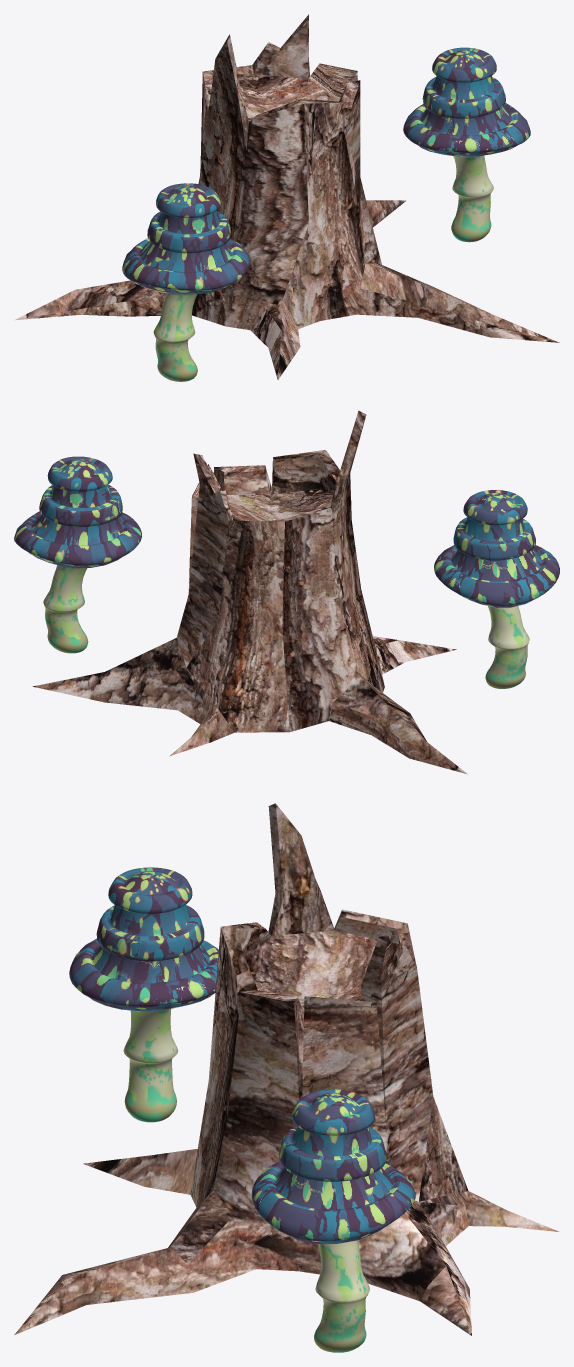
Rendered from FBX_StumpwMushrooms.fbx.
The picture shows the model from 3 angles, top to bottom: view 1: azimuth 30°, elevation 25°; view 2: azimuth 150°, elevation 25°; view 3: azimuth 270°, elevation 25°; orthographic projection. The views are drawn at different scales.
Visible parts, largest first — view 1: StumpwMushrooms; view 2: StumpwMushrooms; view 3: StumpwMushrooms.
Part boxes in pixels (x1,y1,x2,y2): StumpwMushrooms: [14, 14, 559, 381]; StumpwMushrooms: [14, 410, 559, 774]; StumpwMushrooms: [14, 803, 558, 1352].
Size of the model in its own units: 457 by 268 by 345.
